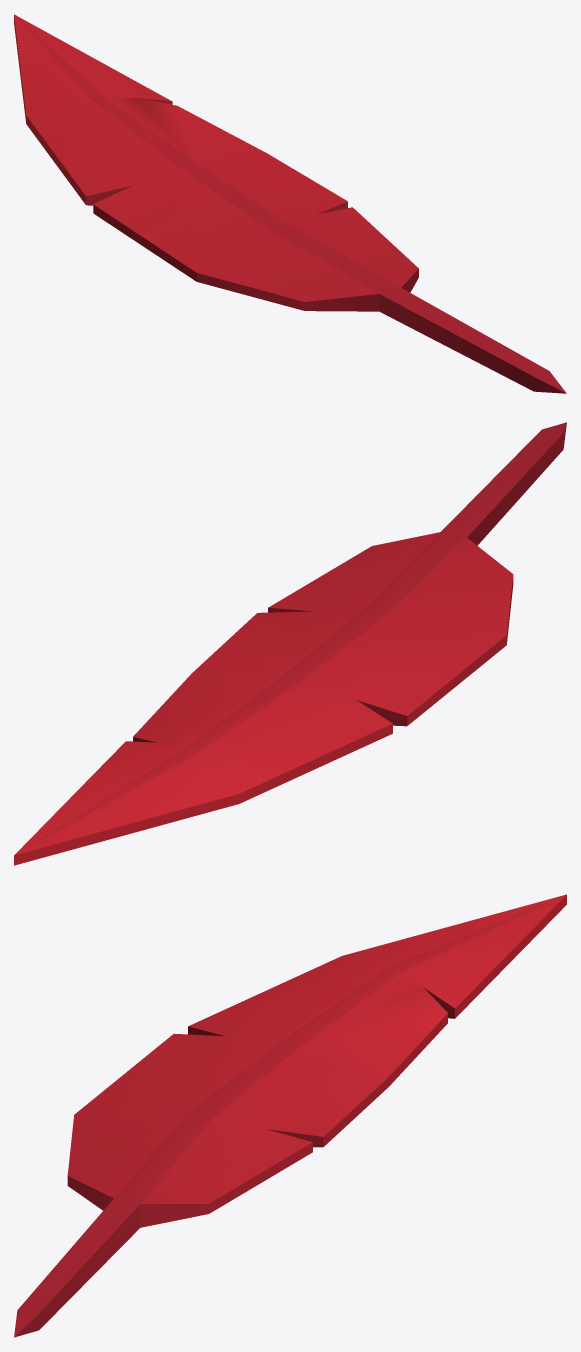
Rendered from Feather6.fbx.
3 renders of one model, top to bottom at view 1: azimuth 30°, elevation 25°; view 2: azimuth 150°, elevation 25°; view 3: azimuth 330°, elevation 25°, orthographic. The views are drawn at different scales.
Visible parts, largest first — view 1: Feather6; view 2: Feather6; view 3: Feather6.
Part boxes in pixels (box(x1,y1,x2,y2)): Feather6: box(14, 14, 566, 393); Feather6: box(14, 422, 566, 865); Feather6: box(14, 894, 566, 1337).
Size of the model in its own units: 4.97 by 0.7807 by 23.15.
